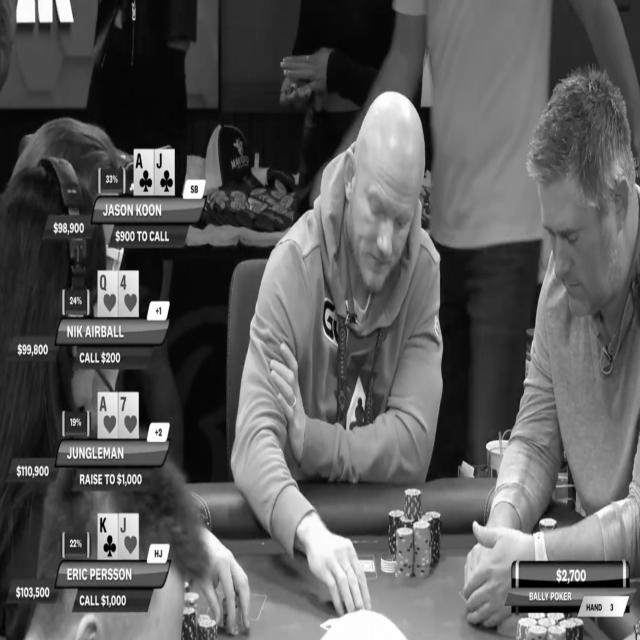4H: (119, 272, 140, 318)
7H: (118, 390, 139, 438)
AC: (132, 149, 155, 195)
AH: (97, 391, 118, 439)
JC: (155, 147, 175, 196)
JH: (118, 515, 139, 561)
KC: (98, 513, 119, 560)
QH: (98, 271, 117, 317)
